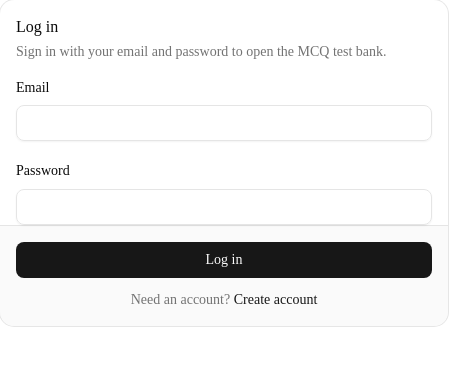
Test: LoginForm › shows Invalid email or password and does not navigate on failure
In the field labelled "Email": (224,123) x1=16 y1=105 x2=432 y2=141, type "jane@school.edu"
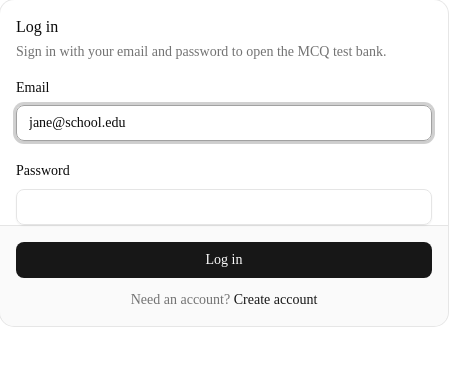
In the password field labelled "Password": (224,206) x1=16 y1=188 x2=432 y2=224, type "wrong-password"
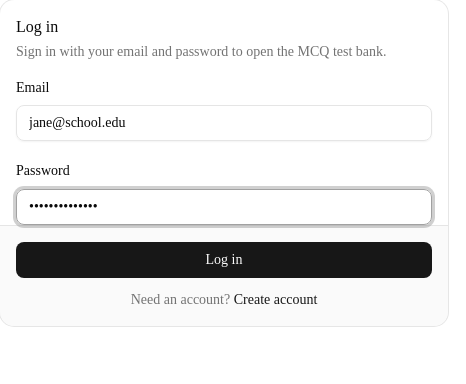
Click the button "Log in": (224,260) x1=16 y1=242 x2=432 y2=278
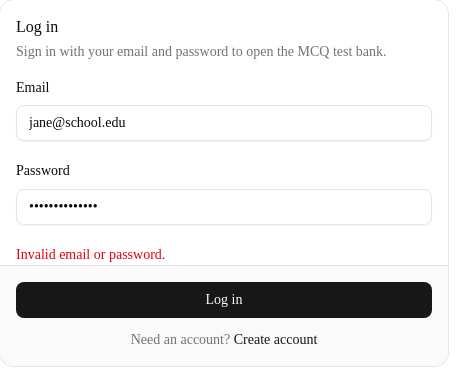
Expected: the text "Invalid email or password." is shown, x1=16 y1=246 x2=165 y2=262
